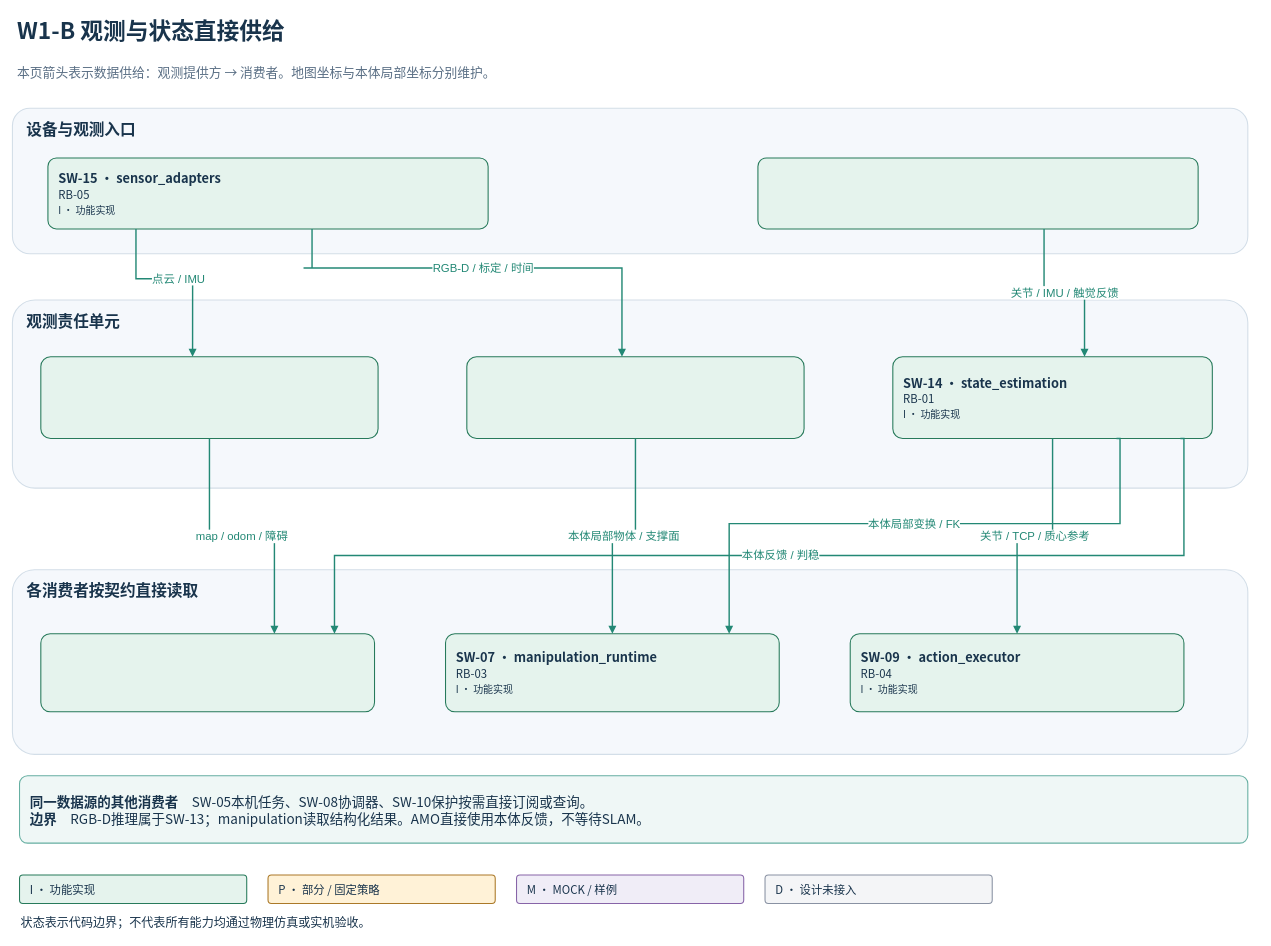
Image size: 1271x946. Some labels were removed from this diagram. The shapes that lost their labels are listed below. From the top down, each one's box as (x1, y1, x2, y2) in pixels, then its label:
(757, 157, 1198, 229): SW-11 · body_gateway RB-05 I · 功能实现
(40, 356, 378, 439): SW-12 · spatial_runtime RB-01 I · 功能实现
(466, 356, 804, 439): SW-13 · perception_runtime RB-01 I · 功能实现
(40, 633, 375, 712): SW-06 · navigation_runtime RB-03 I · 功能实现
